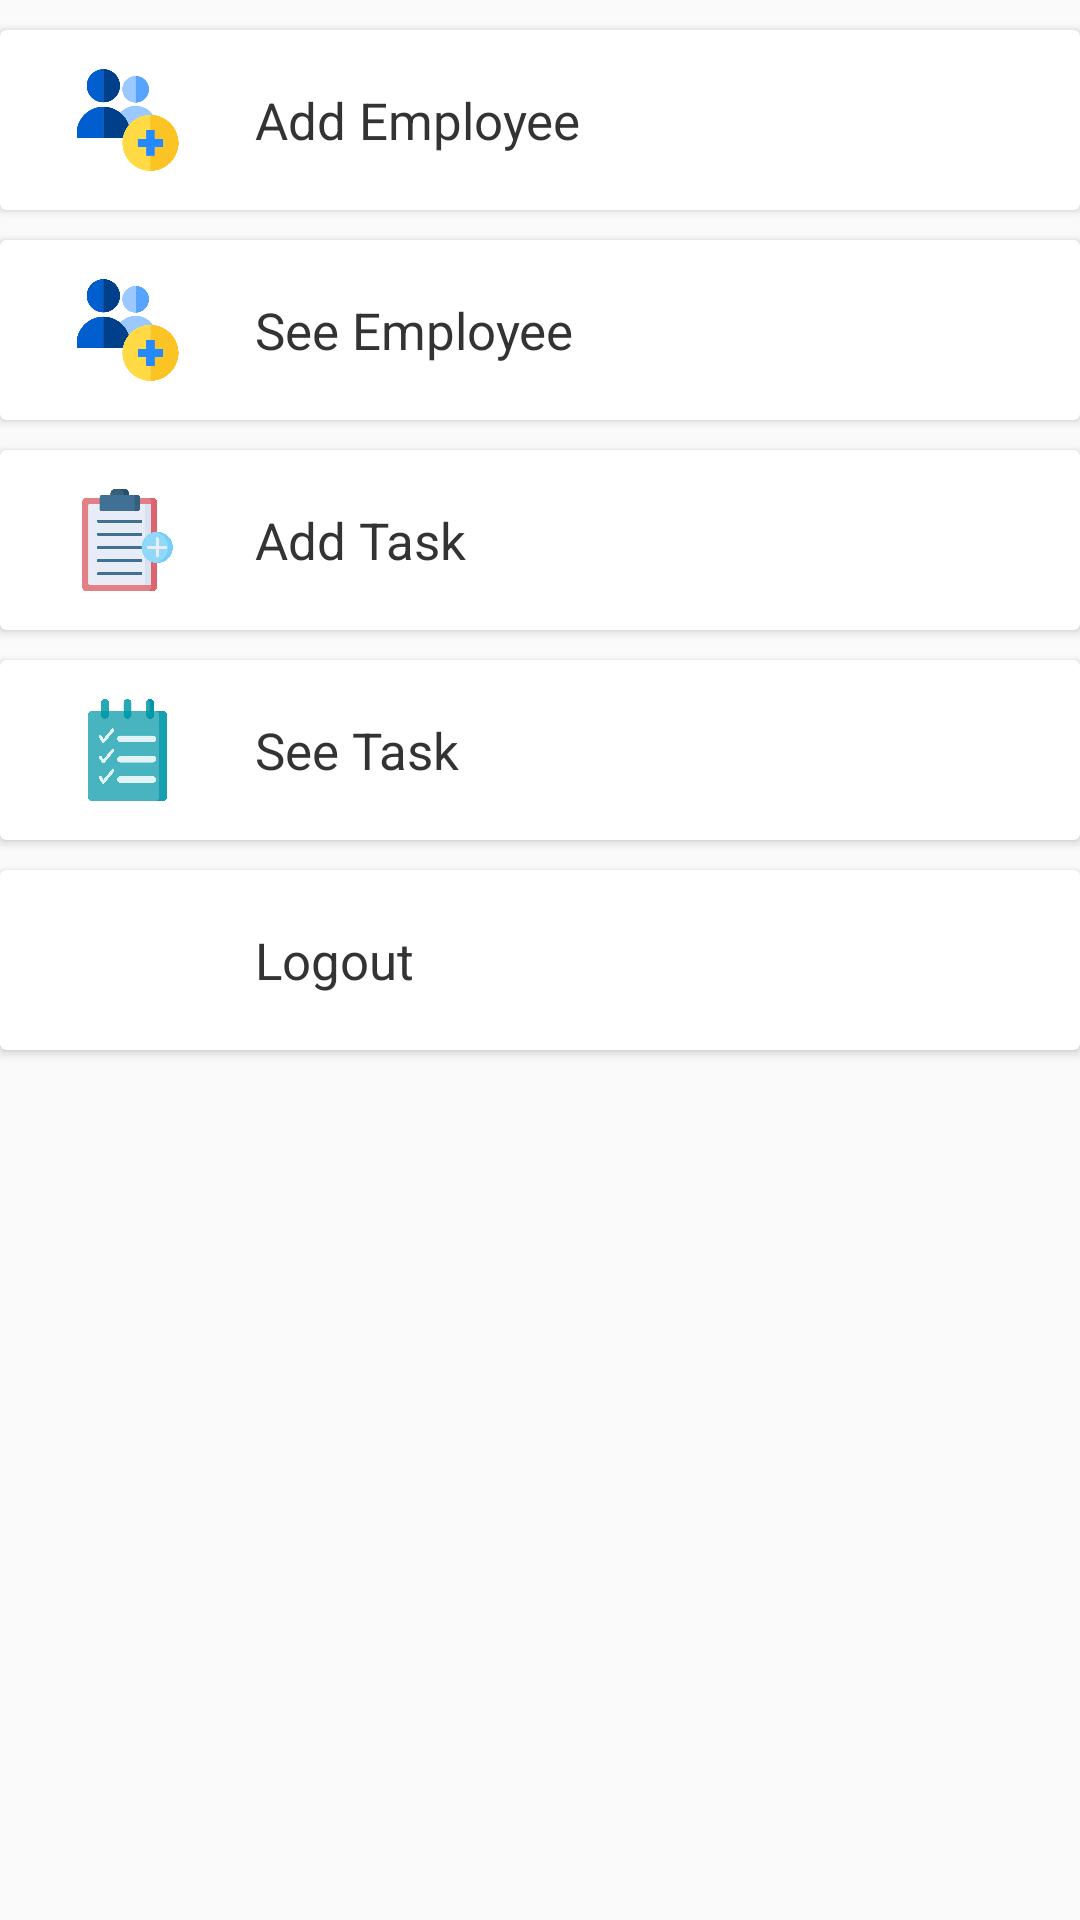

Named icons in this screenshot (1080w x 1920h) and their bounding boxes, (x1, y1, x2, y2):
add candidates: (77, 69, 179, 171), (77, 279, 179, 381)
